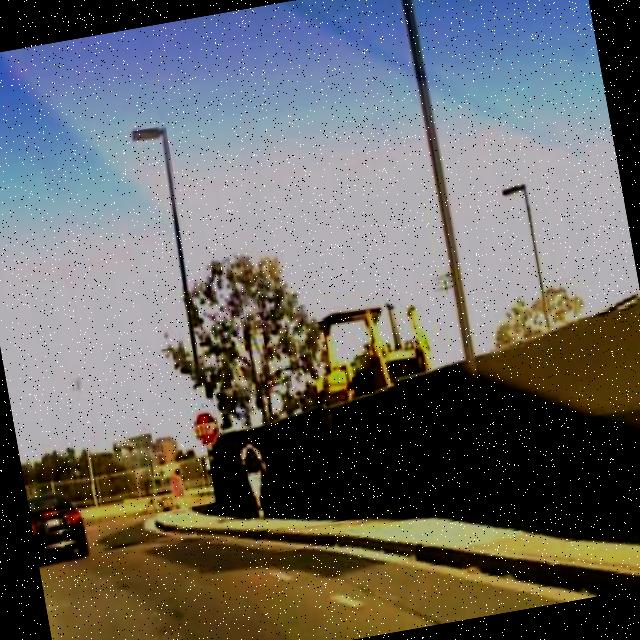Stop: (192, 410, 219, 448)
